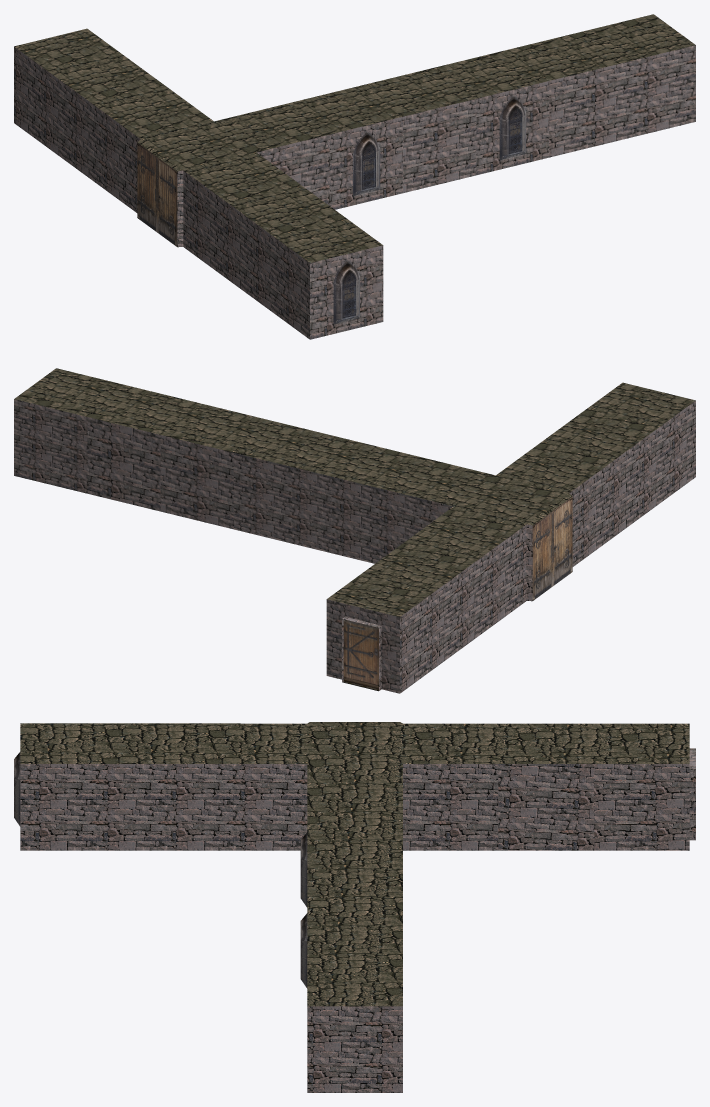
Rendered from corridor_bake2b.fbx.
The picture shows the model from 3 angles, top to bottom: view 1: azimuth 30°, elevation 25°; view 2: azimuth 150°, elevation 25°; view 3: azimuth 270°, elevation 25°; orthographic projection. The views are drawn at different scales.
Visible parts, largest first — view 1: Corridor, ceiling; view 2: Corridor, ceiling; view 3: Corridor, ceiling.
Part boxes in pixels (x1,y1,x2,y2): Corridor: (14, 45, 695, 339); ceiling: (14, 14, 695, 262); Corridor: (14, 399, 695, 693); ceiling: (14, 368, 695, 616); Corridor: (14, 723, 695, 1092); ceiling: (20, 722, 689, 1006).
Bounding box in the file's own units: 1413 × 200 × 1427.
